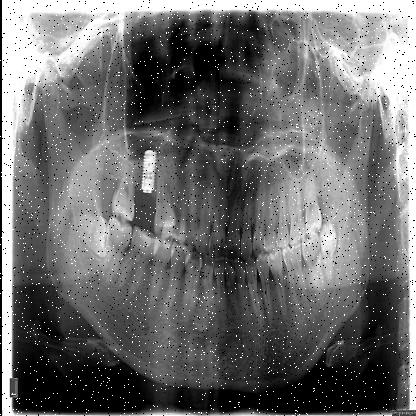ITI: (138, 144, 156, 198)
